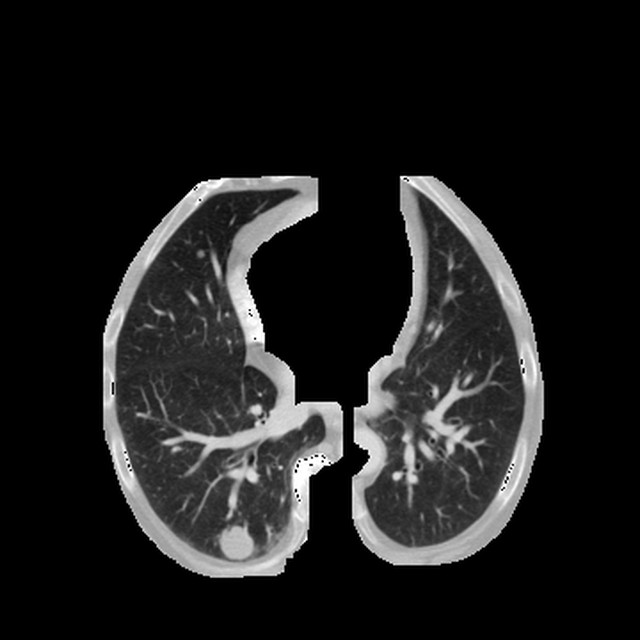PN: (219, 524, 254, 560)
